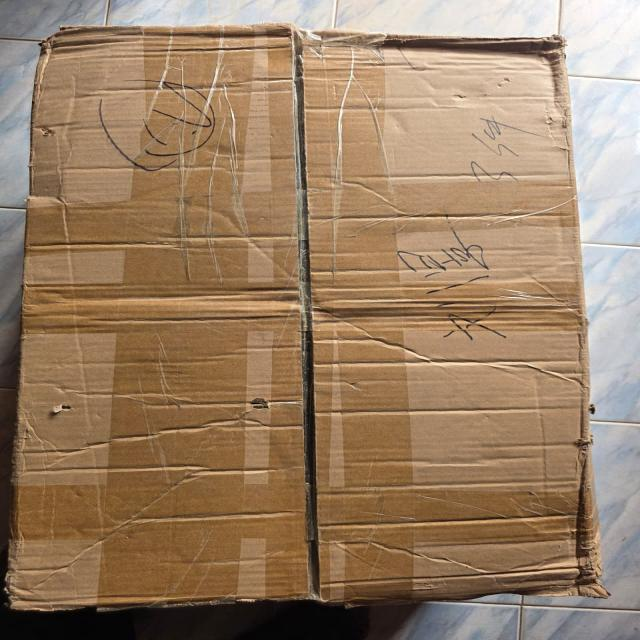carton_box: (0, 11, 624, 640)
package_damage: (260, 11, 365, 617), (23, 15, 595, 67), (570, 403, 619, 604), (44, 390, 90, 427)
